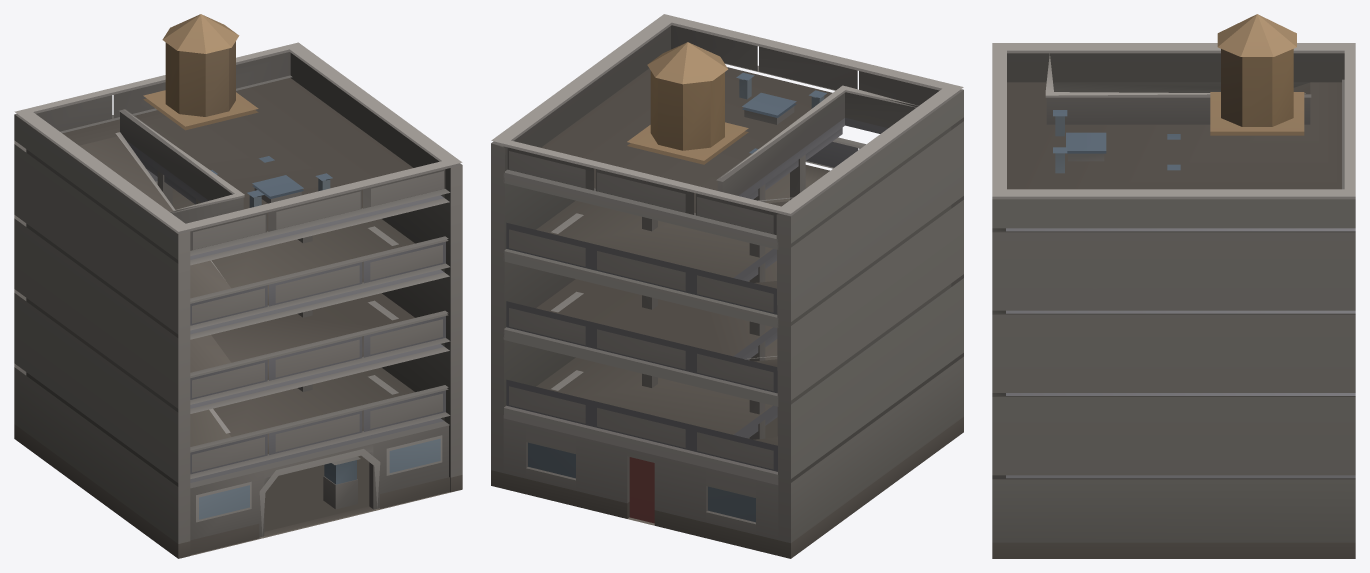
File: garage.lod.glb
The picture shows the model from 3 angles, left to right: view 1: azimuth 30°, elevation 25°; view 2: azimuth 150°, elevation 25°; view 3: azimuth 270°, elevation 25°; orthographic projection. The views are drawn at different scales.
Visible parts, largest first — view 1: garage; view 2: garage; view 3: garage.
Part boxes in pixels (x1,y1,x2,y2): garage: (14,14,462,558); garage: (491,14,963,558); garage: (992,14,1355,558).
Bounding box in the file's own units: 12 × 17.06 × 12.
